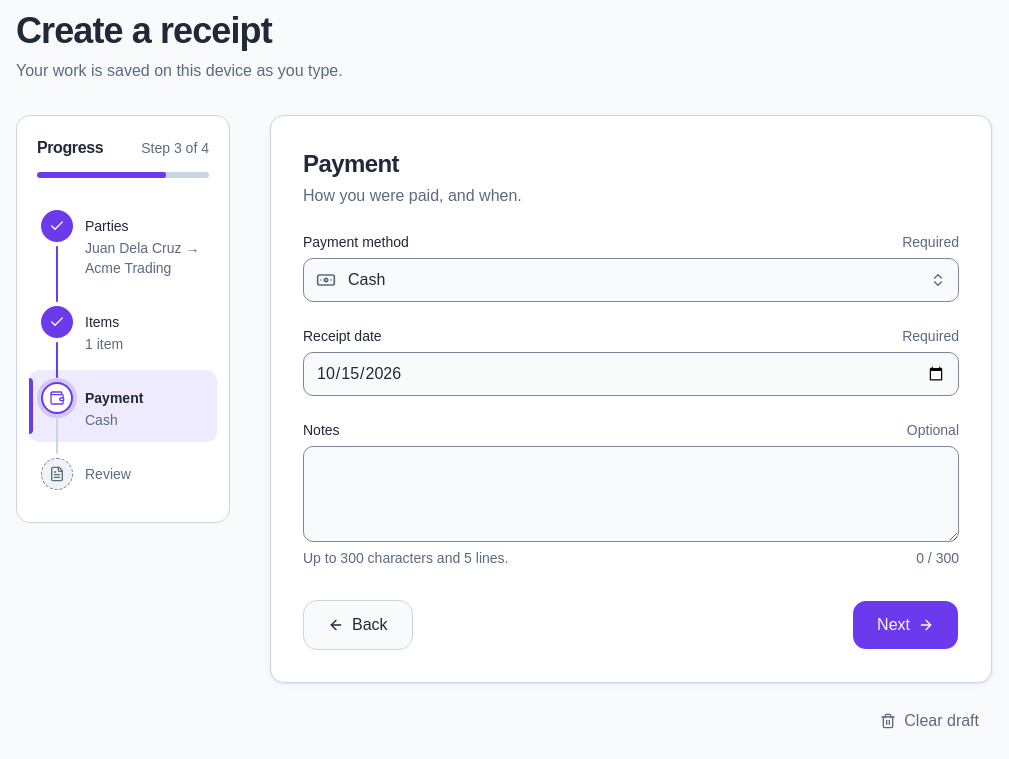
Test: the gate and the visible errors agree (divergence) › lets Cash advance with an invalid hidden reference number
Click the button "Next" at (906, 625), box [852,600,959,650]
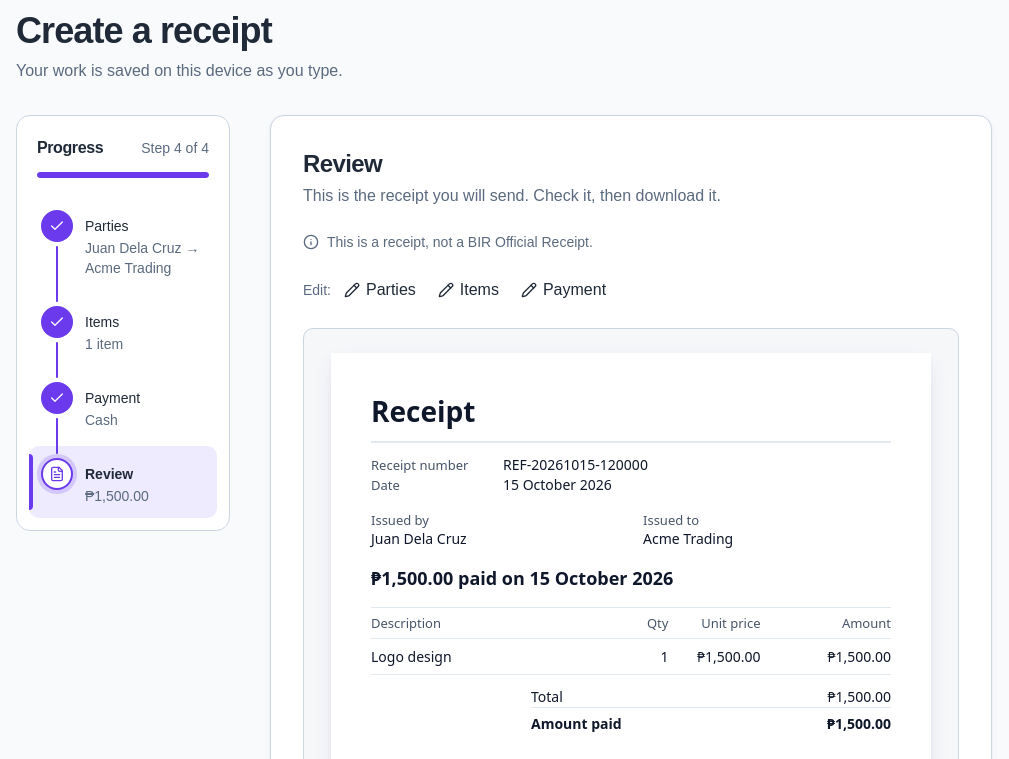
expect the heading "Review" is shown: met, box [303,150,382,177]
